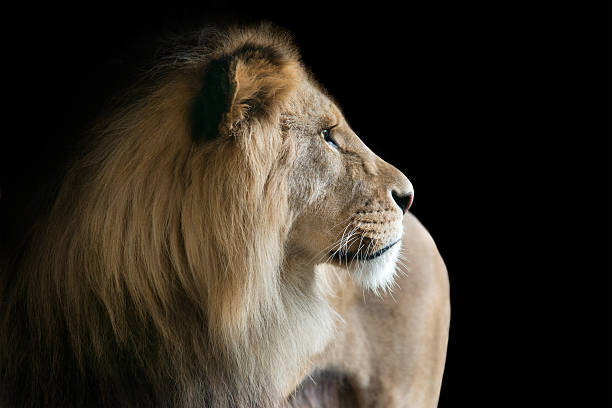lion: (12, 9, 414, 408)
